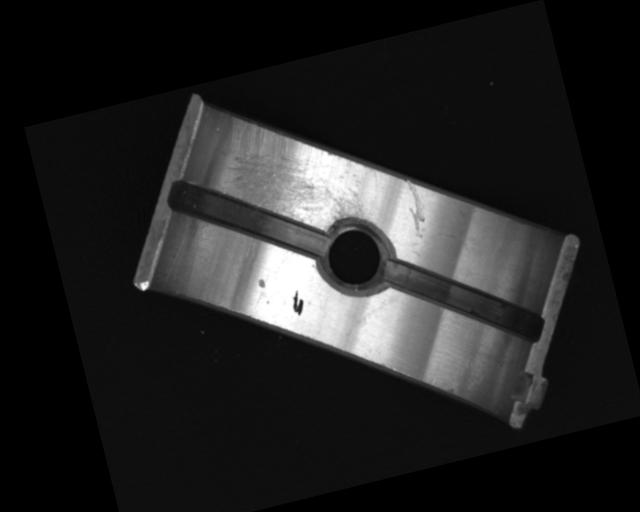blot: (289, 288, 308, 318)
bruise: (255, 275, 267, 290)
gap: (379, 228, 546, 371), (163, 153, 327, 285)
hole: (310, 212, 399, 301)
nick: (399, 176, 432, 240)
scratch: (215, 88, 372, 250)
